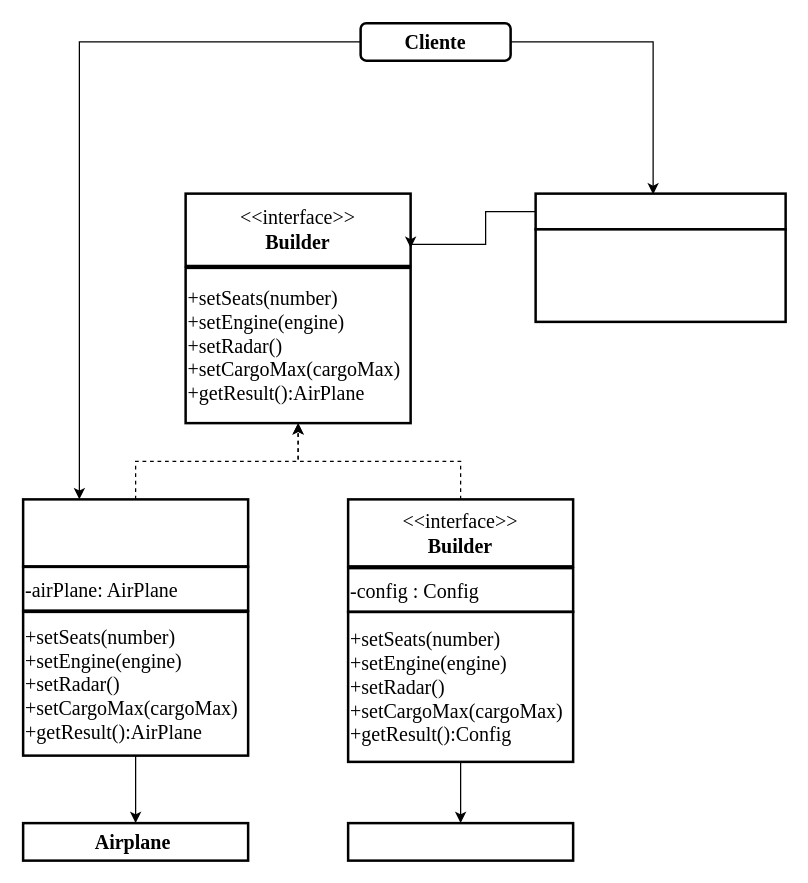
Image size: 808x883. Some labels were removed from this diagram. Here are the shapes that lost their labels. From the top down, the centre of each, then its label:
At pixel 660 211: "Director".
At pixel 660 275: "+makeMilitareJets(buider) +makeCargoAirplanes(buider) +makeBusinessJets".
At pixel 135 532: "AirPlane Builder".
At pixel 460 841: "Config".
